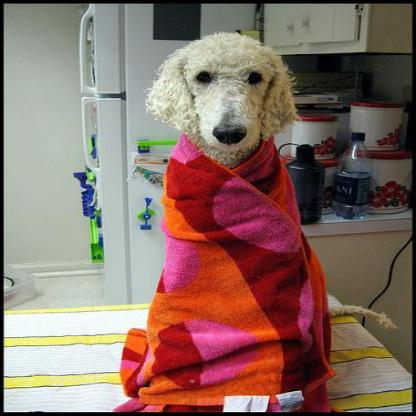standard_poodle: (140, 26, 298, 167)
